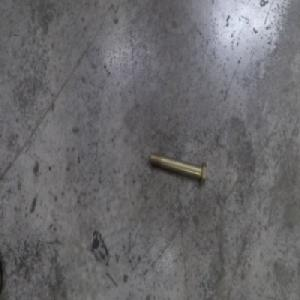Bolt: (148, 150, 207, 186)
